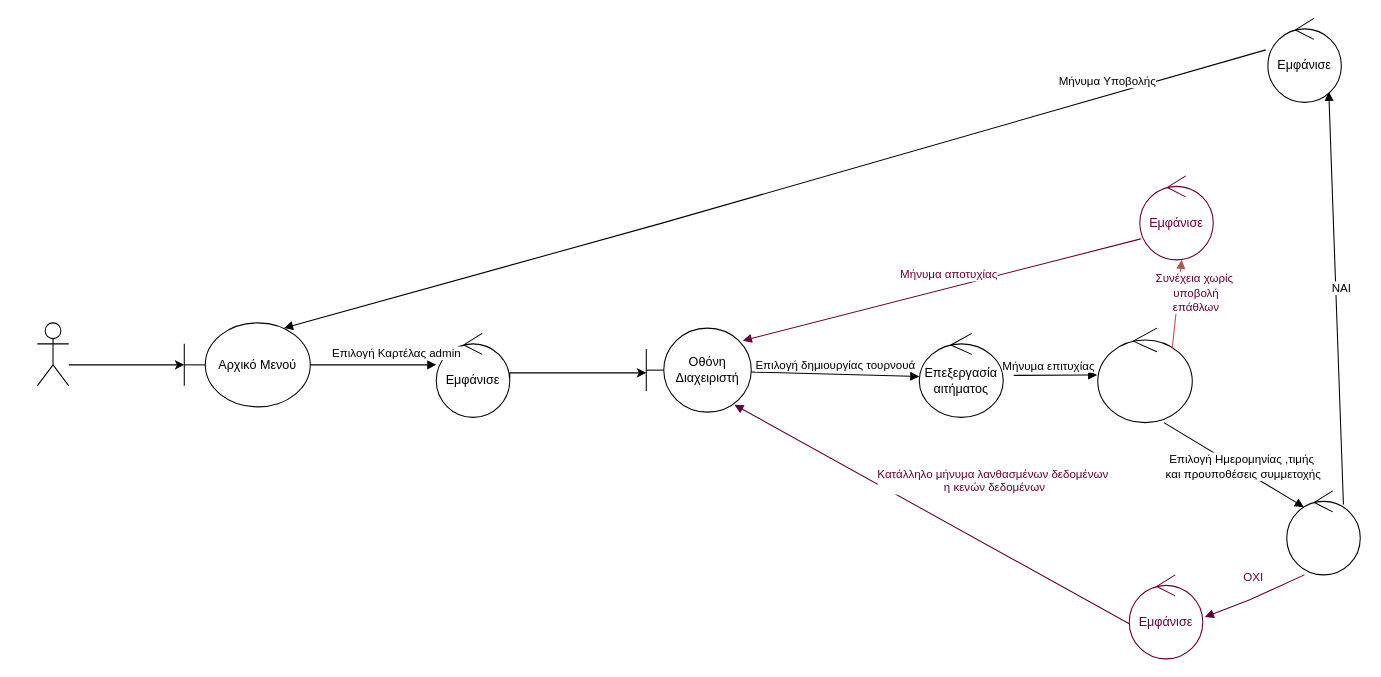
This 1381x677 diagram has some shape labels left out. The shapes that lost their labels are listed below. From the top down, each one's centre as x and y in pixels, then its label:
the point at 52,354: Διαχειριστής
the point at 1144,375: Πρόσθεσε Έπαθλα
the point at 1323,532: Υποβλήθηκαν ορθά στοιχεία
